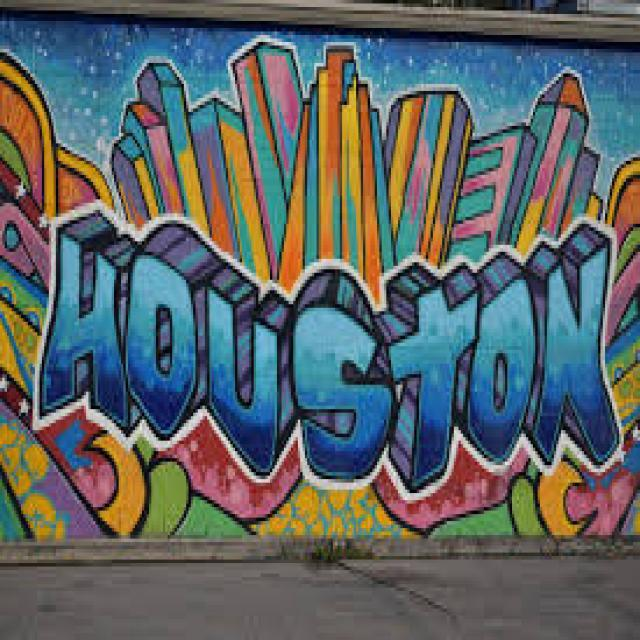-: (0, 21, 640, 537)
